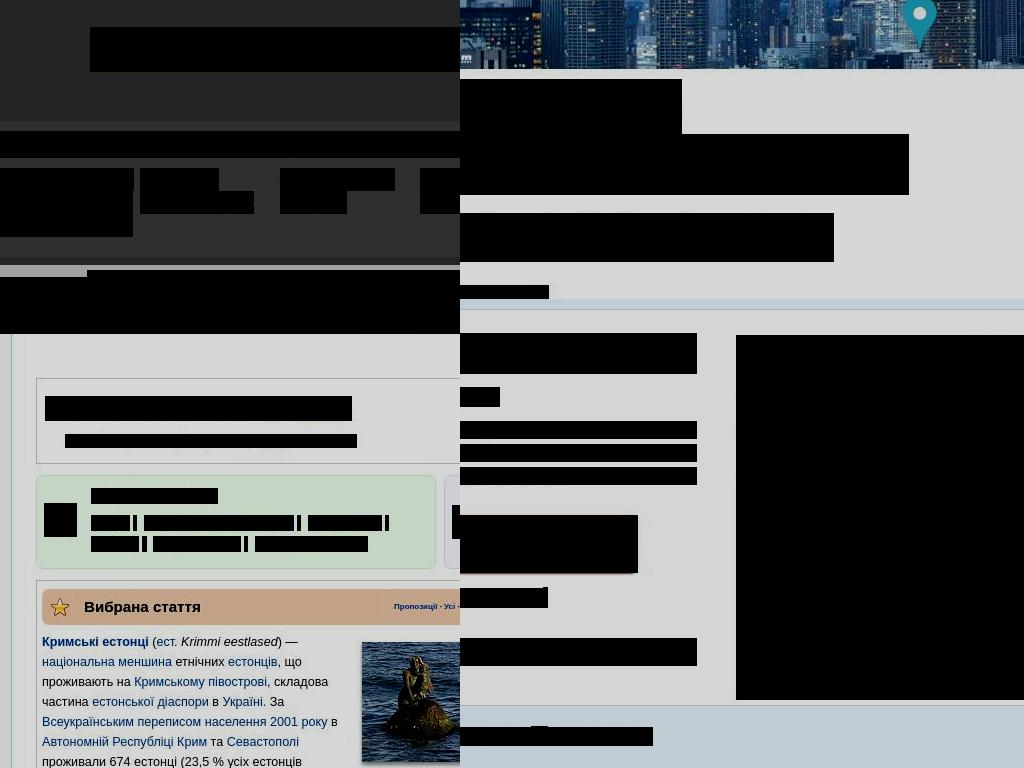button: (460, 515, 638, 573), (77, 299, 173, 334), (132, 277, 277, 299), (284, 277, 429, 299), (0, 277, 125, 299), (12, 299, 78, 334), (359, 299, 418, 334), (417, 299, 460, 334), (460, 285, 549, 299)
field: (90, 27, 460, 72)
heading: (460, 134, 909, 195), (460, 79, 682, 194), (0, 131, 460, 158)
image: (736, 335, 1024, 700), (362, 641, 460, 762), (44, 503, 77, 537), (50, 597, 70, 618), (452, 505, 460, 539)
link: (0, 191, 133, 237), (42, 714, 328, 729), (460, 525, 605, 548), (0, 168, 134, 191), (280, 168, 395, 191), (140, 191, 254, 214), (42, 734, 207, 749), (262, 396, 346, 421), (547, 727, 653, 746), (134, 674, 268, 689), (42, 654, 172, 669), (214, 434, 353, 448), (140, 168, 219, 191), (255, 536, 368, 552), (92, 694, 210, 709), (460, 588, 544, 608), (42, 634, 149, 649), (280, 191, 347, 214), (144, 515, 232, 531), (153, 536, 241, 552), (460, 727, 532, 746), (308, 515, 382, 531), (226, 734, 299, 749), (155, 488, 218, 504), (420, 168, 460, 191), (420, 191, 460, 214), (91, 536, 139, 552), (227, 654, 278, 669), (91, 488, 134, 504), (252, 515, 294, 531), (91, 515, 130, 531), (222, 694, 263, 709), (394, 602, 437, 612), (156, 634, 179, 649), (444, 602, 456, 612)
text: (460, 213, 834, 262), (42, 674, 328, 709), (460, 333, 697, 374), (42, 654, 301, 689), (460, 638, 697, 666), (45, 396, 263, 421), (460, 421, 697, 439), (460, 444, 697, 462), (460, 467, 697, 485), (84, 598, 287, 616), (42, 754, 302, 768), (65, 434, 214, 448), (181, 634, 279, 649), (460, 544, 532, 559), (172, 654, 229, 669), (133, 488, 155, 504), (232, 515, 254, 531), (531, 726, 548, 746), (262, 694, 284, 709), (277, 634, 298, 649), (207, 734, 228, 749), (736, 335, 750, 355), (208, 694, 223, 709), (749, 335, 759, 355), (345, 396, 352, 421), (327, 714, 338, 729), (148, 634, 156, 649), (543, 587, 548, 608), (142, 536, 147, 552), (437, 602, 445, 612), (352, 434, 357, 448), (133, 515, 137, 531), (297, 515, 301, 531), (385, 515, 389, 531), (244, 536, 248, 552), (455, 602, 460, 612)
